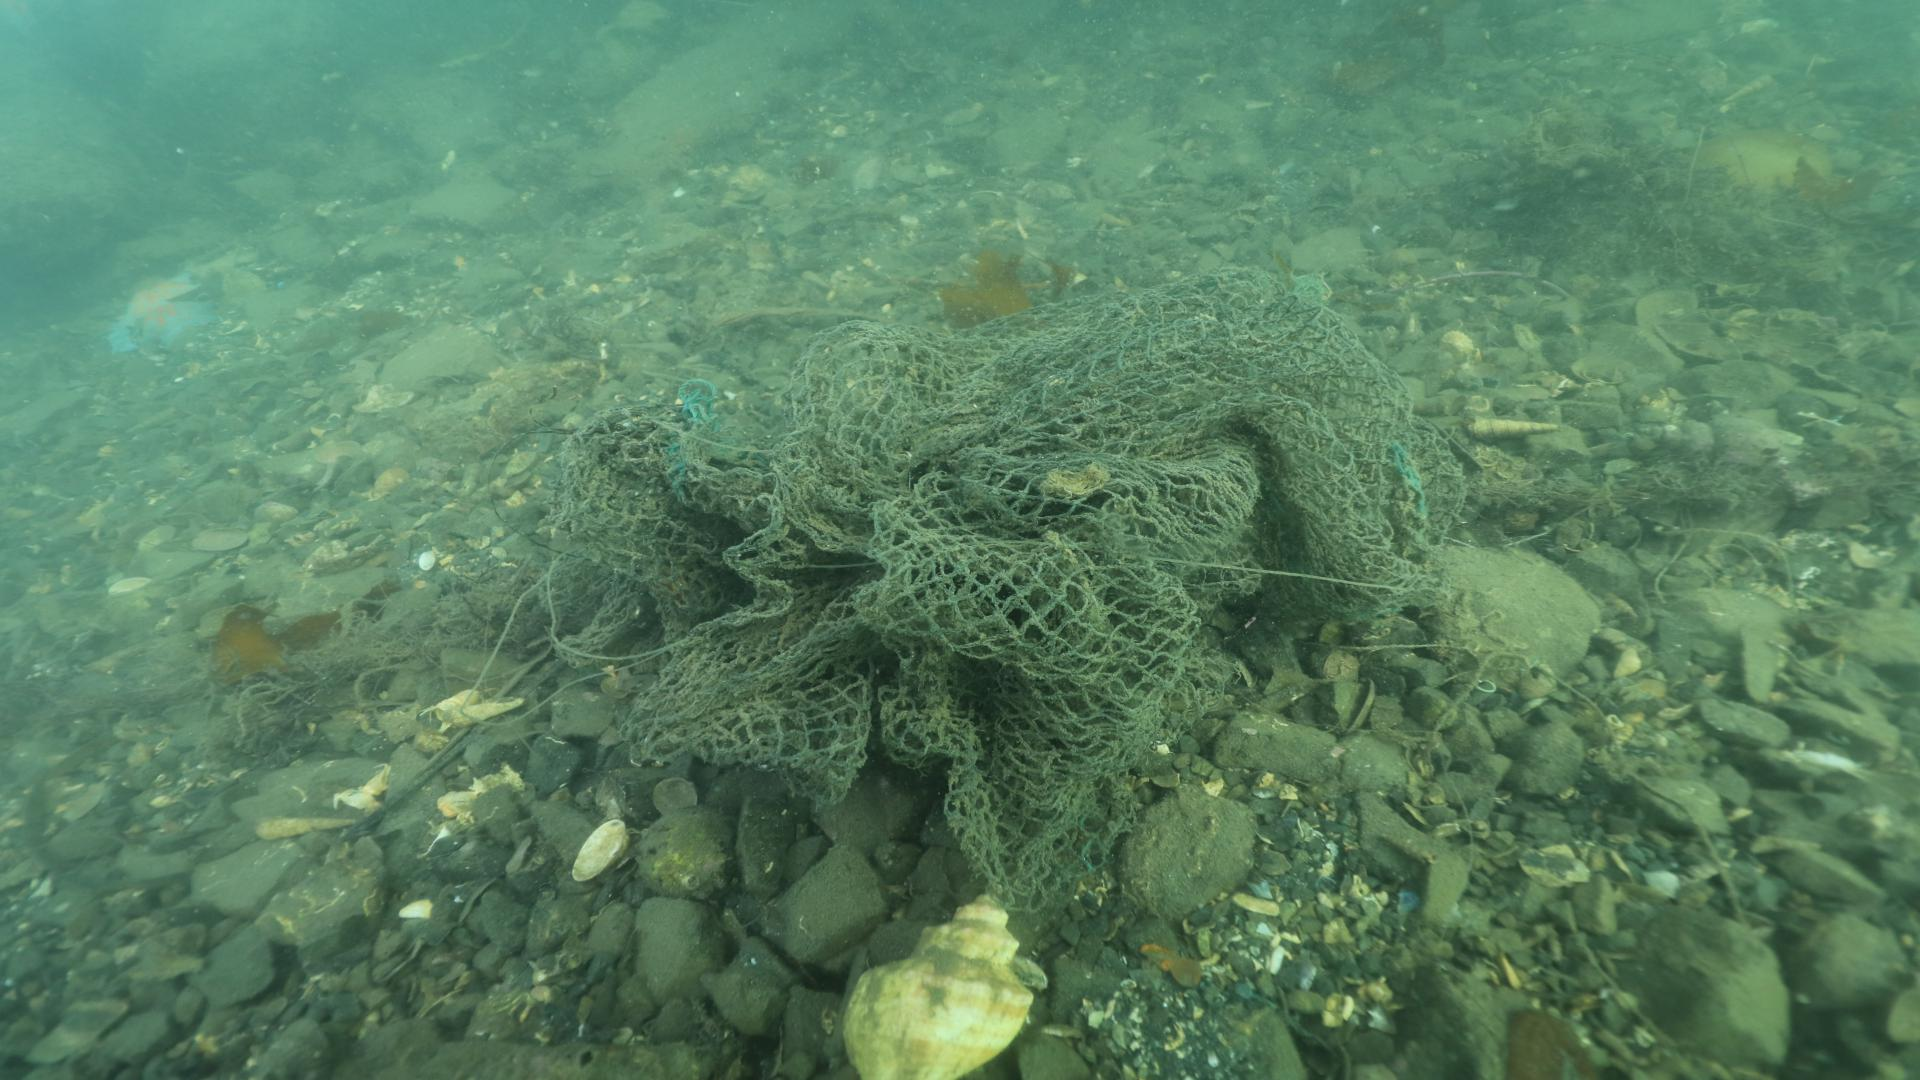fish net: (564, 266, 1469, 913)
